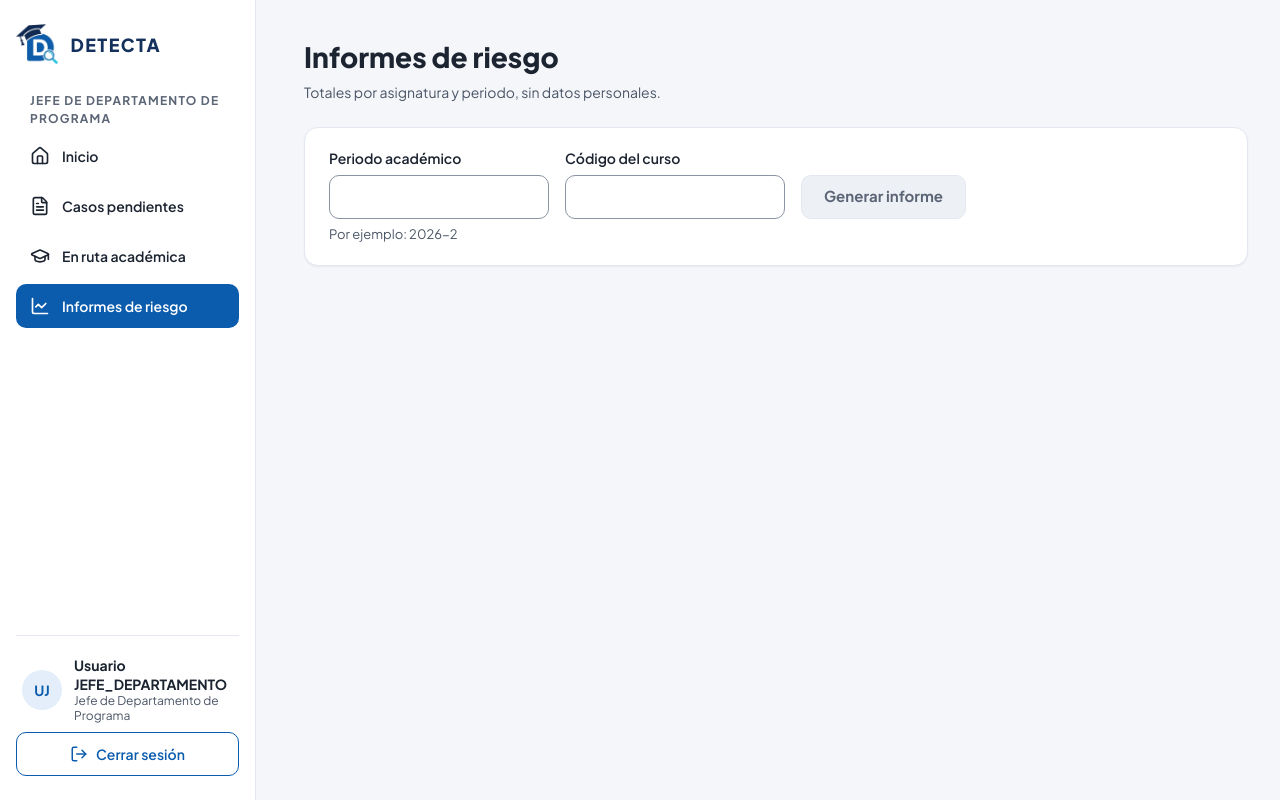
Test: Informes de riesgo (CUD10, Jefe) › sin código del curso no se genera; sin periodo, «Indique el periodo académico.»
Expected: the button "Generar informe" is disabled, [801,175,966,219]
Type "MAT-201" into the field labelled "Código del curso".
click(675, 197); type("MAT-201")  # box [565,175,785,219]
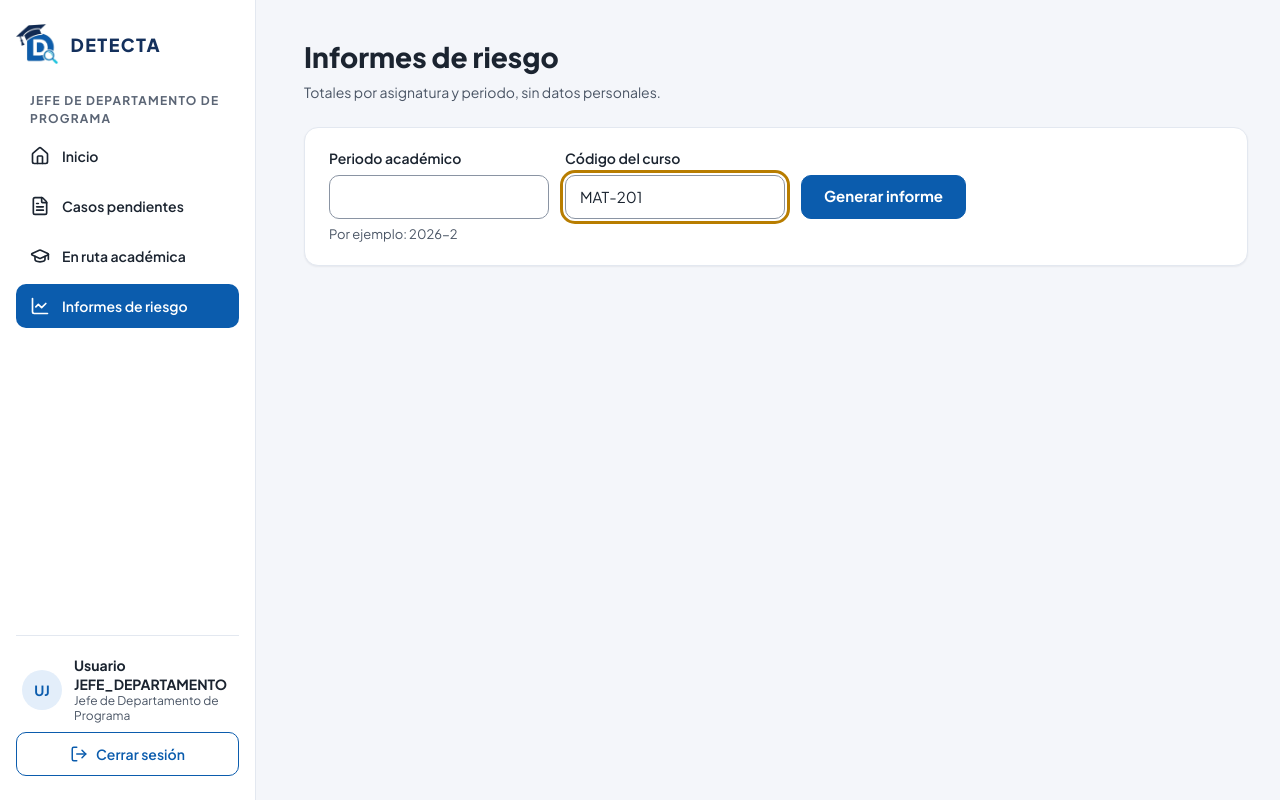
Click the button "Generar informe".
click(883, 197)  # box [801,175,966,219]
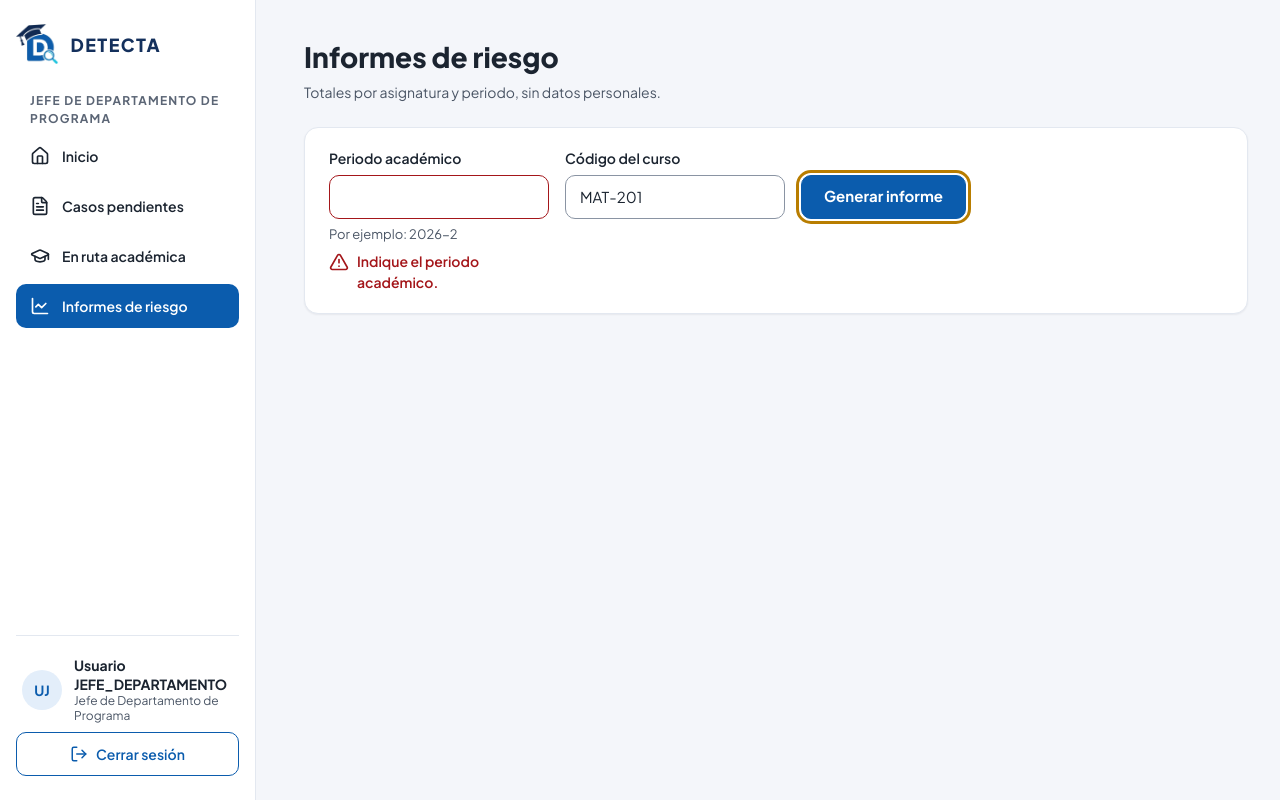
Now the text "Indique el periodo académico." is shown, box [357,252,479,291]
